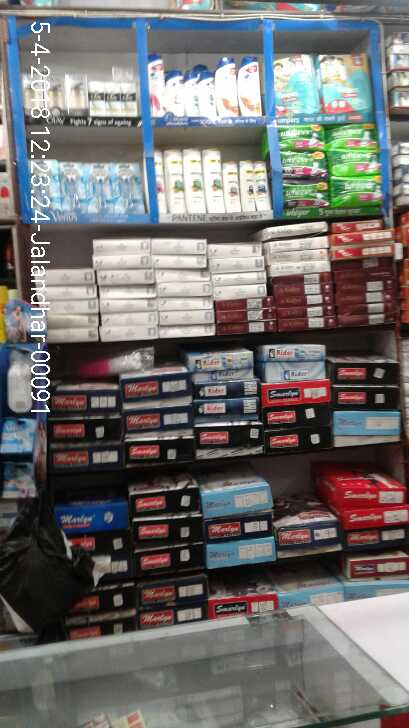venus: (116, 163, 143, 214), (86, 163, 113, 212), (60, 161, 83, 211)
